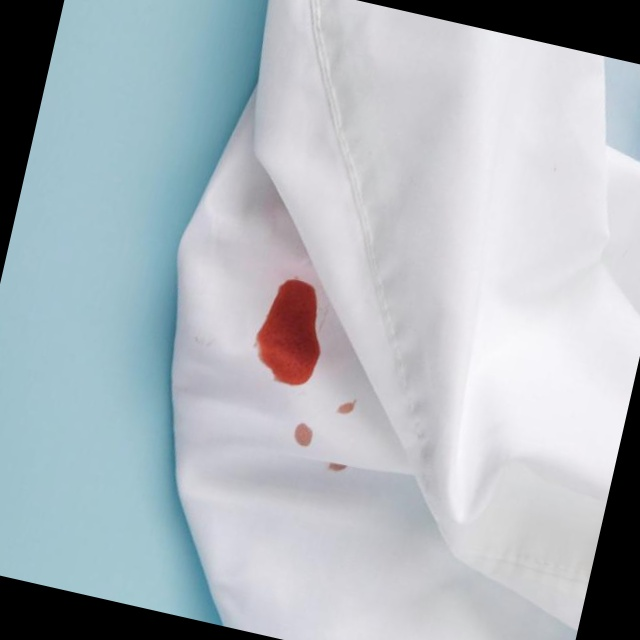blood: (243, 266, 344, 391), (282, 384, 368, 479)
